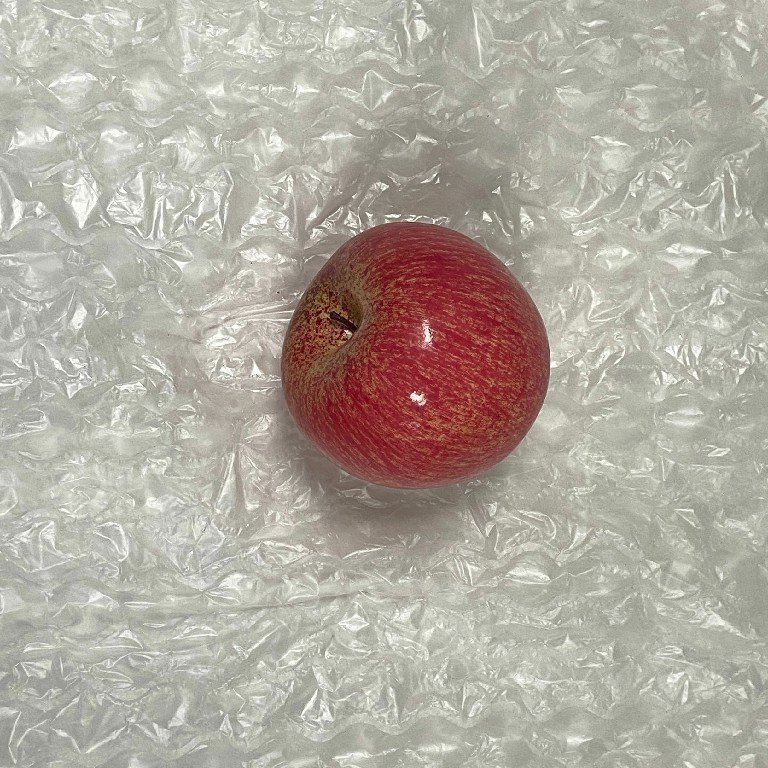fruit_apple: (276, 219, 554, 493)
